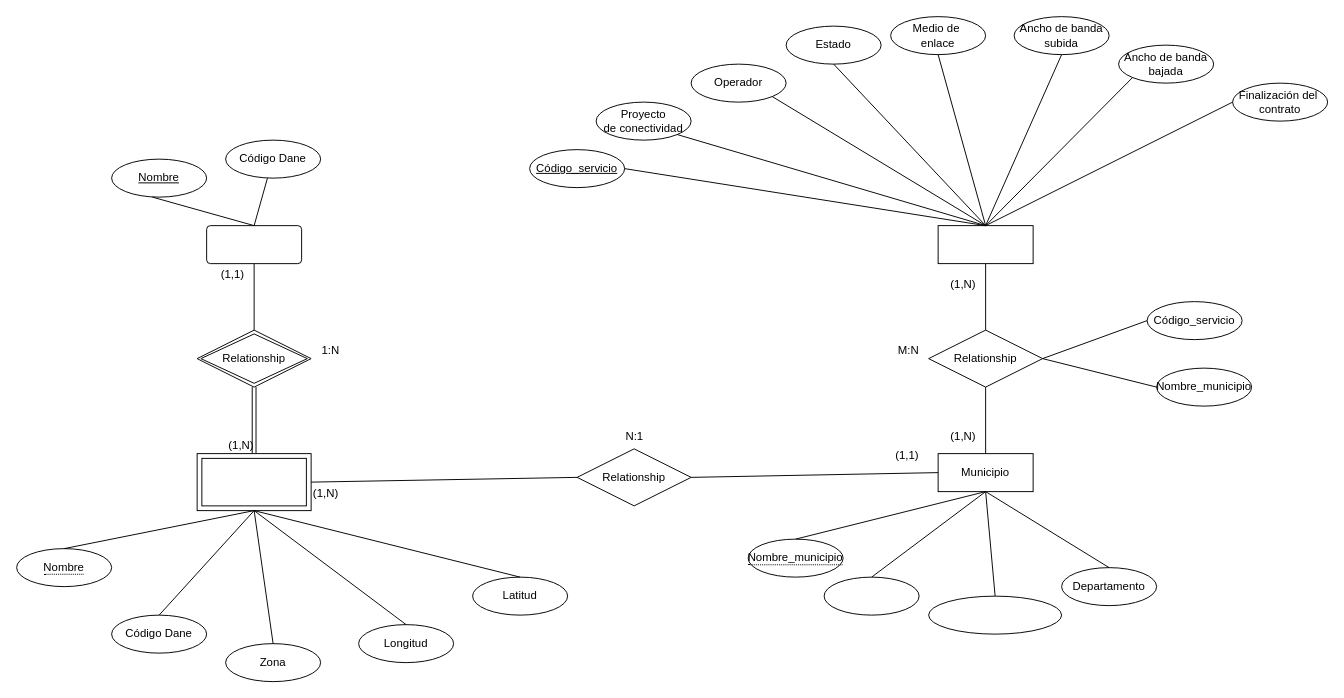
The diagram is 1344 pixels wide and 698 high, and some of its shapes have lost their labels. Here are the shapes that lost their labels. From the top down, the centre of each, then its label:
At point 254,244: "Instituciones Educativas".
At point 985,244: "Servicio internet".
At point 253,482: "Sedes instituciones educativas".
At point 871,595: "Código".
At point 995,614: "Código_Departamento".
